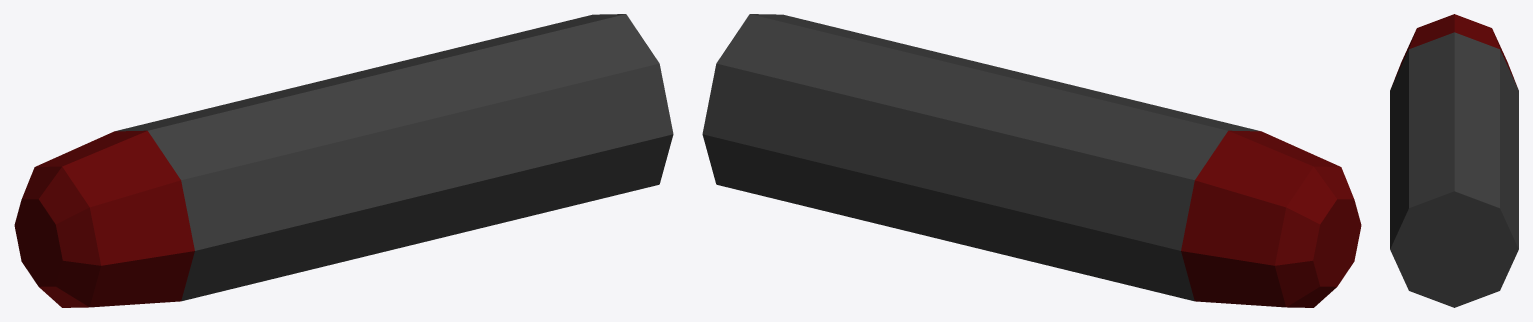
The model's file is Nerf_Bullet.fbx.
The picture shows the model from 3 angles, left to right: view 1: azimuth 30°, elevation 25°; view 2: azimuth 150°, elevation 25°; view 3: azimuth 270°, elevation 25°; orthographic projection. The views are drawn at different scales.
Visible parts, largest first — view 1: pCylinder2; view 2: pCylinder2; view 3: pCylinder2.
Boxes of the visible parts, <box> form: pCylinder2: <box>14,14,673,307</box>; pCylinder2: <box>702,14,1361,307</box>; pCylinder2: <box>1390,14,1518,307</box>.
Bounding box in the file's own units: 16.51 × 4.6 × 4.6.
